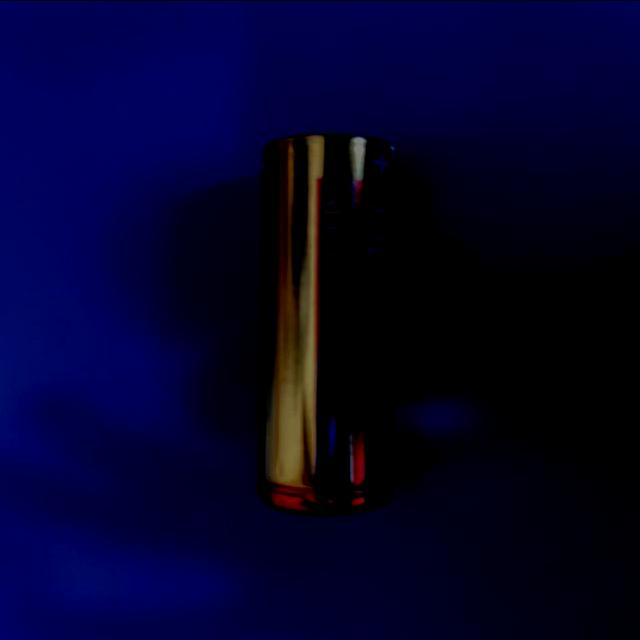AA: (256, 133, 404, 516)
